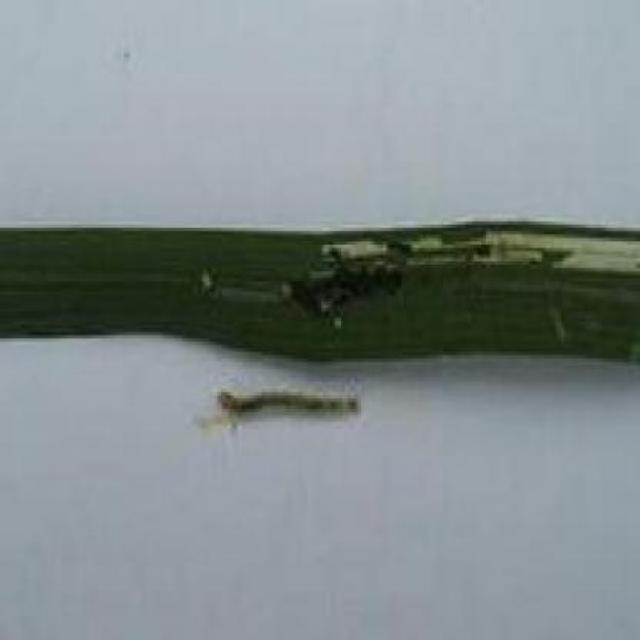leaf-folder: (192, 358, 366, 460)
